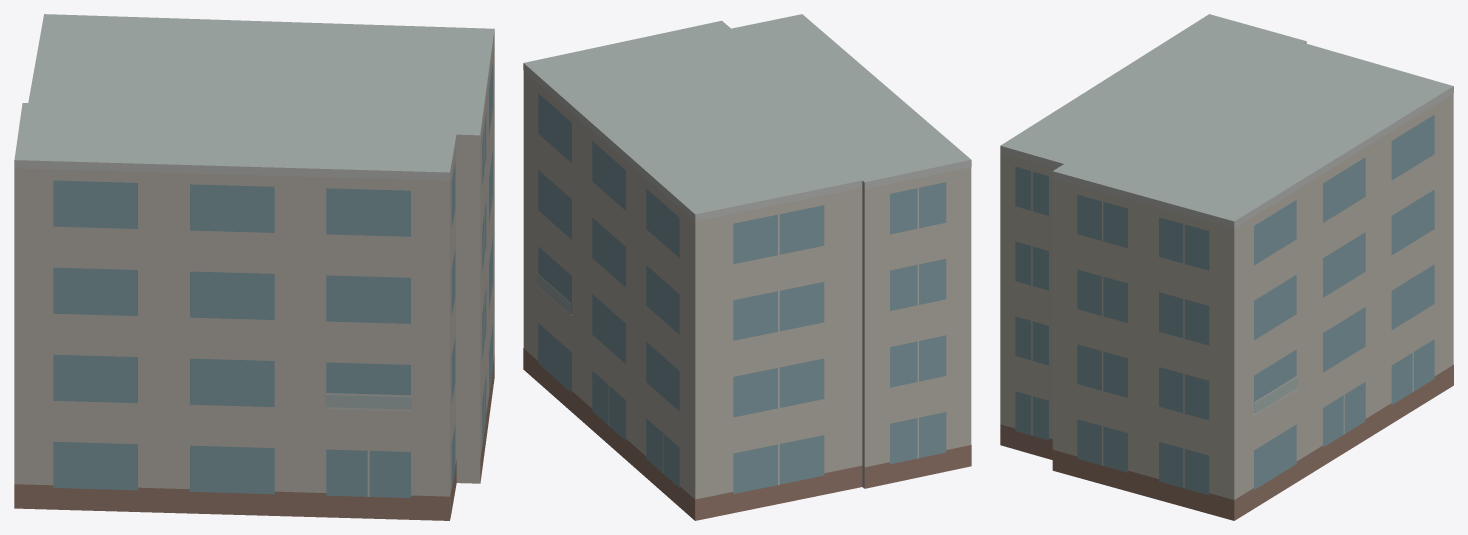
The model's file is survey-upis-32655171.glb.
3 views of the same model, side by side, from view 1: azimuth 30°, elevation 25°; view 2: azimuth 150°, elevation 25°; view 3: azimuth 270°, elevation 25° (orthographic). The views are drawn at different scales.
Visible parts, largest first — view 1: survey-upis-32655171.tmp; view 2: survey-upis-32655171.tmp; view 3: survey-upis-32655171.tmp.
Part boxes in pixels (box(x1,y1,x2,y2)): survey-upis-32655171.tmp: box(14, 14, 494, 520); survey-upis-32655171.tmp: box(523, 14, 971, 520); survey-upis-32655171.tmp: box(1000, 14, 1453, 520).
Size of the model in its own units: 15.46 by 10.4 by 14.28.
